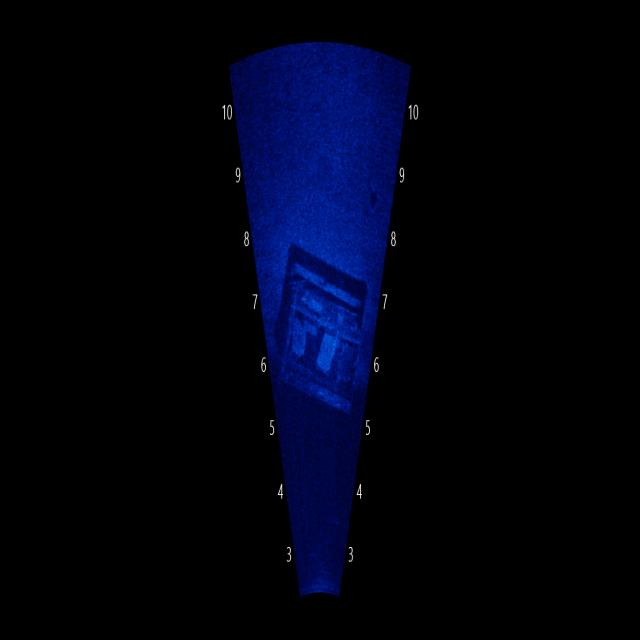square: (267, 234, 372, 426)
